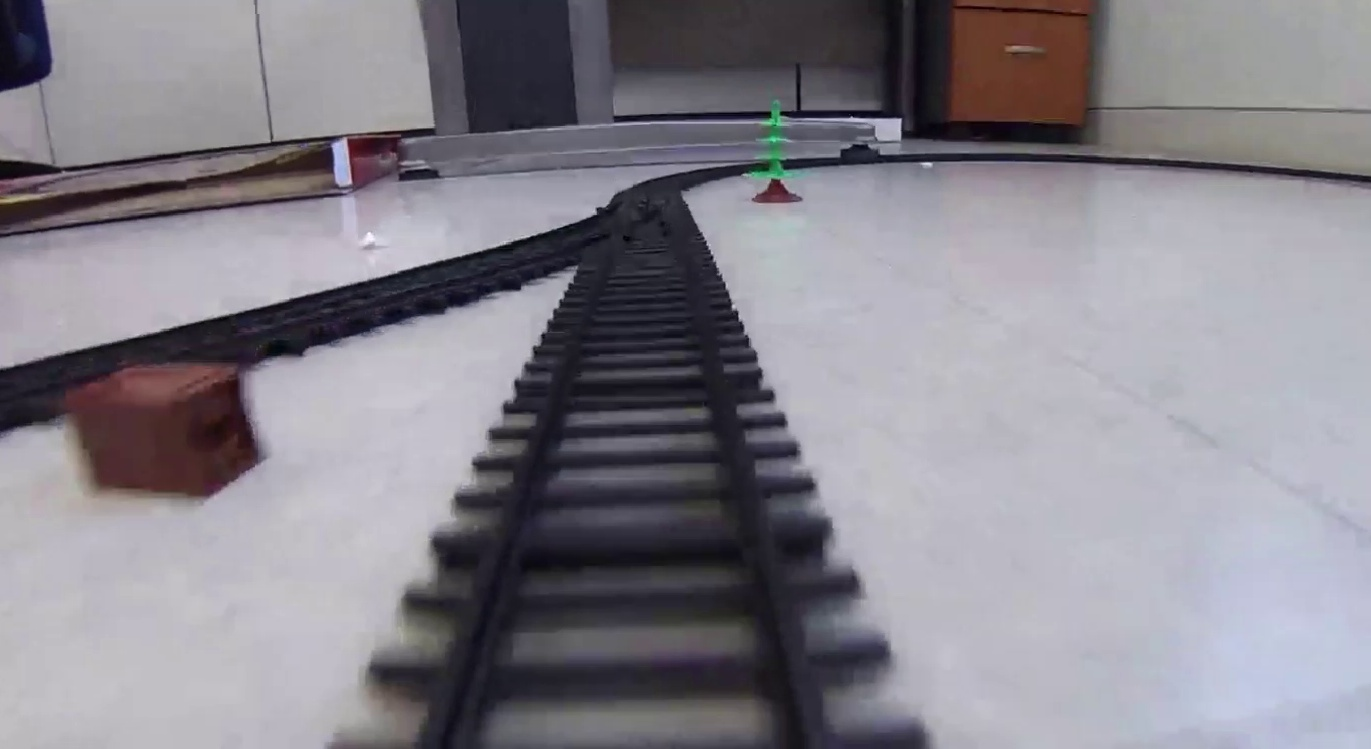box: (68, 363, 266, 502)
tree: (743, 101, 806, 202)
